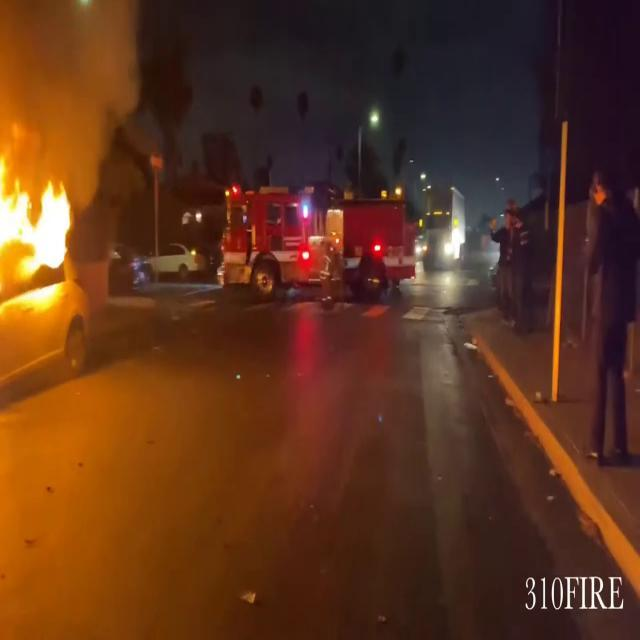Fire: (0, 140, 80, 304)
Smoke: (0, 0, 154, 169)
